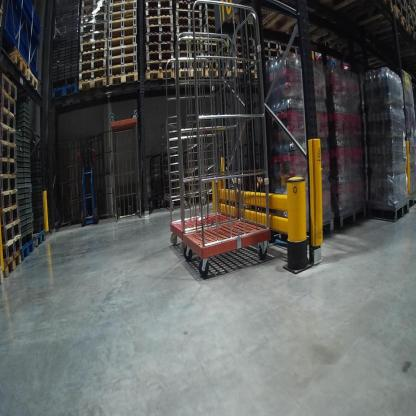pallet: (251, 8, 340, 42), (351, 7, 411, 48), (267, 216, 335, 246), (359, 199, 412, 224), (328, 205, 370, 229), (48, 82, 80, 111), (8, 44, 28, 81), (77, 75, 109, 98), (108, 68, 139, 89), (0, 254, 25, 280), (1, 235, 21, 264), (231, 30, 258, 51), (109, 40, 139, 58), (20, 236, 37, 267), (108, 60, 139, 76), (2, 75, 21, 101), (78, 68, 108, 84), (3, 221, 20, 249), (107, 32, 138, 47), (108, 52, 139, 67), (77, 58, 107, 73), (1, 105, 20, 128), (80, 38, 109, 53), (2, 204, 19, 229), (24, 64, 39, 92), (147, 69, 175, 84), (81, 47, 107, 63), (143, 60, 175, 73), (146, 32, 175, 46), (81, 14, 108, 29), (1, 190, 19, 211), (176, 39, 203, 53), (144, 49, 175, 61), (79, 22, 105, 36), (109, 7, 137, 20), (108, 2, 138, 14), (177, 66, 206, 78), (175, 22, 201, 35), (1, 175, 17, 196), (2, 125, 18, 146), (110, 15, 138, 27), (81, 31, 108, 43), (395, 2, 412, 21), (79, 5, 108, 16), (145, 41, 174, 52), (1, 155, 17, 174), (4, 93, 19, 113), (257, 37, 280, 50), (110, 26, 139, 36), (145, 6, 174, 16), (280, 38, 298, 54), (176, 10, 203, 20), (176, 17, 203, 27), (146, 16, 175, 25), (178, 59, 204, 69), (233, 60, 261, 69), (261, 46, 280, 59), (2, 141, 18, 156), (205, 59, 229, 69), (176, 3, 202, 12), (145, 26, 177, 33), (143, 1, 174, 8), (203, 24, 227, 33), (231, 53, 261, 60), (200, 41, 223, 50), (176, 53, 205, 60), (36, 226, 43, 252), (207, 70, 229, 78), (235, 73, 257, 80), (78, 0, 106, 5), (408, 12, 415, 30), (204, 16, 223, 22), (201, 9, 222, 14), (410, 27, 415, 46)
